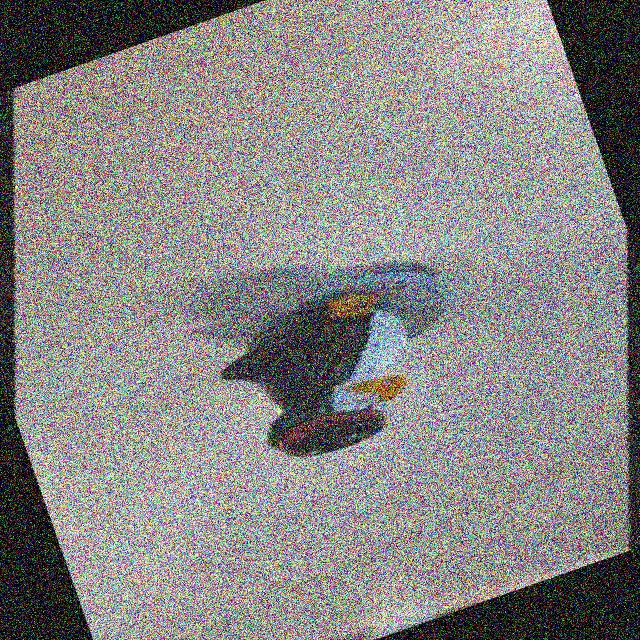Penguin: (135, 212, 533, 533)
